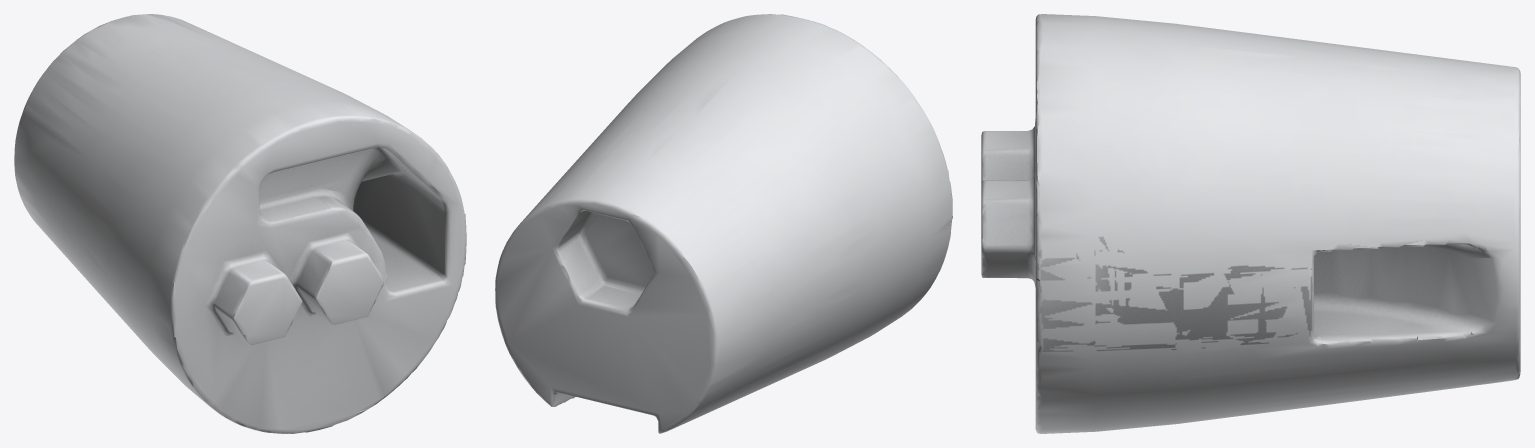
Rendered from left_bisecp_lower.obj.
3 views of the same model, side by side, from view 1: azimuth 30°, elevation 25°; view 2: azimuth 150°, elevation 25°; view 3: azimuth 270°, elevation 25° (orthographic). The views are drawn at different scales.
Parts seen in each view (by area): view 1: left_bisecp_lower; view 2: left_bisecp_lower; view 3: left_bisecp_lower.
Part boxes in pixels (<box>): left_bisecp_lower: <box>14,14,466,433</box>; left_bisecp_lower: <box>495,14,952,433</box>; left_bisecp_lower: <box>981,14,1520,433</box>.
Size of the model in its own units: 0.0753 by 0.0753 by 0.0967.
Materials: 1 (1 with a texture image).
